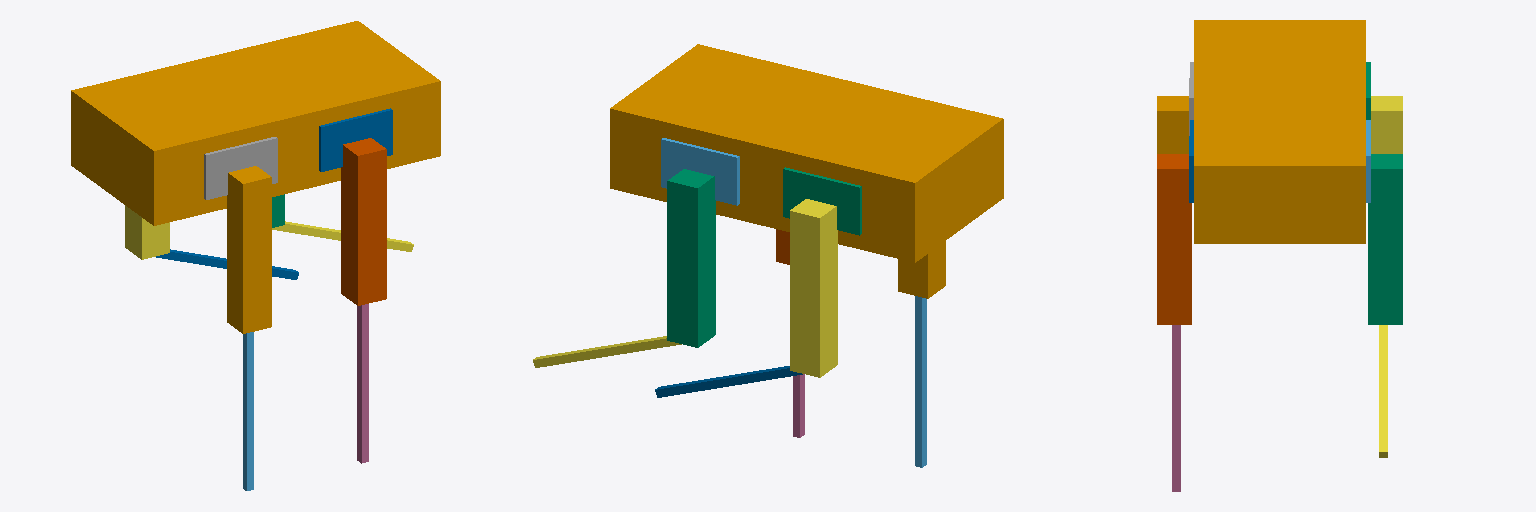
URDF robot description (robot):
<?xml version="1.0"?>
<robot xmlns:xacro="http://www.ros.org/wiki/xacro" name="robot">
  <!-- <link name="world"/> -->
  <!-- <joint name="fixed" type="fixed">
    <parent link="world"/>
    <child link="base_link"/>
  </joint> -->
  <link name="base_link">
    <visual>
      <geometry>
        <box size="0.254 0.127 0.0635"/>
      </geometry>
    </visual>
    <collision>
      <geometry>
        <box size="0.254 0.127 0.0635"/>
      </geometry>
    </collision>
    <inertial>
      <origin xyz="0.000 0.000 0.000" rpy ="0.000 0.000 0.000"/>
      <mass value="2.000"/>
      <inertia
        ixx="0.03562" ixy="0.00000" ixz="0.00000"
        iyy="0.04262" iyz="0.00000"
        izz="0.04508"/>
    </inertial>
  </link>

  <!-- FL -->
  <joint name="hip_fl" type="revolute">
    <limit upper="0.4" effort="100" velocity="10" lower="-0.2"/>
    <origin xyz ="0.0508 0.0508 0" rpy="0 0 0"/>
    <parent link="base_link"/>
    <child link = "hipbone_fl"/>
  </joint>

  <link name="hipbone_fl">
    <visual>
      <origin xyz=" 0.0 0.0 0" rpy = "0 0 0"/>
      <geometry>
        <box size = "0.0635 0.03175 0.0381"/>
      </geometry>
    </visual>
    <collision>
      <origin xyz=" 0.0 0.0 0" rpy = "0 0 0"/>
      <geometry>
        <box size = "0.0635 0.03175 0.0381"/>
      </geometry>
    </collision>
    <inertial>
      <origin xyz="0.000 0.000 0.000" rpy ="0.000 0.000 0.000"/>
      <mass value="0.233"/>
      <inertia
        ixx="0.00216" ixy="-0.00001" ixz="0.00001"
        iyy="0.00216" iyz="0.00001"
        izz="0.00211"/>
    </inertial>
  </link>

  <joint name="shoulder_fl" type="revolute">
    <limit upper="0.5" effort="100" velocity="10" lower="-0.1"/>
    <origin xyz="0 0 0" rpy = "0 0 0"/>
    <axis xyz="0 1 0"/>
    <parent link="hipbone_fl"/>
    <child link="femur_fl"/>
  </joint>

  <link name="femur_fl">
    <visual>
      <origin xyz="0.0 0.027 -0.0635" rpy="0 0 0"/>
      <geometry>
        <box size = "0.0254 0.0254 0.127"/>
      </geometry>
    </visual>
    <collision>
      <origin xyz="0.0 0.027 -0.0635" rpy="0 0 0"/>
      <geometry>
        <box size = "0.0254 0.0254 0.127"/>
      </geometry>
    </collision>
    <inertial>
      <origin xyz="0.000 0.000 0.000" rpy ="0.000 0.000 0.000"/>
      <mass value="0.084"/>
      <inertia
        ixx="0.00414" ixy="0.00000" ixz="0.00000"
        iyy="0.00410" iyz="0.00006"
        izz="0.00386"/>
    </inertial>
  </link>

  <joint name="knee_fl" type="revolute">
    <limit upper="-0.4" effort="100" velocity="10" lower="-2"/>
    <origin xyz="0 0 -0.127" rpy = "0 0 1.57"/>
    <parent link="femur_fl"/>
    <child link="tibia_fl"/>
  </joint>

  <link name="tibia_fl">
    <visual>
      <origin xyz="0.0254 0.0 -0.06985" rpy="0 0 0"/>
      <geometry>
        <box size = "0.00635 0.00635 0.1397"/>
      </geometry>
    </visual>
    <collision>
      <origin xyz="0.0254 0.0 -0.06985" rpy="0 0 0"/>
      <geometry>
        <box size = "0.00635 0.00635 0.1397"/>
      </geometry>
    </collision>
    <inertial>
      <origin xyz="0.000 0.000 0.000" rpy ="0.000 0.000 0.000"/>
      <mass value="0.034"/>
      <inertia
        ixx="0.00159" ixy="0.00000" ixz="-0.00001"
        iyy="0.00159" iyz="0.00000"
        izz="0.00147"/>
    </inertial>
  </link>

  <!-- FR -->
  <joint name="hip_fr" type="revolute">
    <limit upper="0.4" effort="100" velocity="10" lower="-0.2"/>
    <origin xyz ="0.0508 -0.0508 0" rpy="0 0 3.14"/>
    <parent link="base_link"/>
    <child link = "hipbone_fr"/>
  </joint>

  <link name="hipbone_fr">
    <visual>
      <origin xyz=" 0.0 0.0 0" rpy = "0 0 0"/>
      <geometry>
        <box size = "0.0635 0.03175 0.0381"/>
      </geometry>
    </visual>
    <collision>
      <origin xyz=" 0.0 0.0 0" rpy = "0 0 0"/>
      <geometry>
        <box size = "0.0635 0.03175 0.0381"/>
      </geometry>
    </collision>
    <inertial>
      <origin xyz="0.000 0.000 0.000" rpy ="0.000 0.000 0.000"/>
      <mass value="0.233"/>
      <inertia
        ixx="0.00216" ixy="0.00001" ixz="0.00001"
        iyy="0.00216" iyz="-0.00001"
        izz="0.00211"/>
    </inertial>
  </link>

  <joint name="shoulder_fr" type="revolute">
    <limit upper="0.1" effort="100" velocity="10" lower="-0.5"/>
    <origin xyz="0 0 0" rpy = "0 0 0"/>
    <axis xyz="0 1 0"/>
    <parent link="hipbone_fr"/>
    <child link="femur_fr"/>
  </joint>

  <link name="femur_fr">
    <visual>
      <origin xyz="0.0 0.027 -0.0635" rpy="0 0 0"/>
      <geometry>
        <box size = "0.0254 0.0254 0.127"/>
      </geometry>
    </visual>
    <collision>
      <origin xyz="0.0 0.027 -0.0635" rpy="0 0 0"/>
      <geometry>
        <box size = "0.0254 0.0254 0.127"/>
      </geometry>
    </collision>
    <inertial>
      <origin xyz="0.000 0.000 0.000" rpy ="0.000 0.000 0.000"/>
      <mass value="0.084"/>
      <inertia
        ixx="0.00414" ixy="0.00000" ixz="0.00000"
        iyy="0.00410" iyz="-0.00006"
        izz="0.00386"/>
    </inertial>
  </link>

  <joint name="knee_fr" type="revolute">
    <limit upper="2" effort="100" velocity="10" lower="-0.5"/>
    <origin xyz="0 0 -0.127" rpy = "0 0 1.57"/>
    <parent link="femur_fr"/>
    <child link="tibia_fr"/>
  </joint>

  <link name="tibia_fr">
    <visual>
      <origin xyz="0.0254 0.0 -0.06985" rpy="0 0 0"/>
      <geometry>
        <box size = "0.00635 0.00635 0.1397"/>
      </geometry>
    </visual>
    <collision>
      <origin xyz="0.0254 0.0 -0.06985" rpy="0 0 0"/>
      <geometry>
        <box size = "0.00635 0.00635 0.1397"/>
      </geometry>
    </collision>
    <inertial>
      <origin xyz="0.000 0.000 0.000" rpy ="0.000 0.000 0.000"/>
      <mass value="0.034"/>
      <inertia
        ixx="0.00159" ixy="0.00000" ixz="-0.00001"
        iyy="0.00159" iyz="0.00000"
        izz="0.00147"/>
    </inertial>
  </link>

  <!-- BR -->
  <joint name="hip_br" type="revolute">
    <limit upper="0.4" effort="100" velocity="10" lower="-0.2"/>
    <origin xyz ="-0.0508 -0.0508 0" rpy="0 0 3.14"/>
    <parent link="base_link"/>
    <child link = "hipbone_br"/>
  </joint>

  <link name="hipbone_br">
    <visual>
      <origin xyz=" 0.0 0.0 0" rpy = "0 0 0"/>
      <geometry>
        <box size = "0.0635 0.03175 0.0381"/>
      </geometry>
    </visual>
    <collision>
      <origin xyz=" 0.0 0.0 0" rpy = "0 0 0"/>
      <geometry>
        <box size = "0.0635 0.03175 0.0381"/>
      </geometry>
    </collision>
    <inertial>
      <origin xyz="0.000 0.000 0.000" rpy ="0.000 0.000 0.000"/>
      <mass value="0.233"/>
      <inertia
        ixx="0.00216" ixy="-0.00001" ixz="-0.00001"
        iyy="0.00216" iyz="-0.00001"
        izz="0.00211"/>
    </inertial>
  </link>

  <joint name="shoulder_br" type="revolute">
    <limit upper="0.1" effort="100" velocity="10" lower="-0.5"/>
    <origin xyz="0 0 0" rpy = "0 0 0"/>
    <axis xyz="0 1 0"/>
    <parent link="hipbone_br"/>
    <child link="femur_br"/>
  </joint>

  <link name="femur_br">
    <visual>
      <origin xyz="0.0 0.027 -0.0635" rpy="0 0 0"/>
      <geometry>
        <box size = "0.0254 0.0254 0.127"/>
      </geometry>
    </visual>
    <collision>
      <origin xyz="0.0 0.027 -0.0635" rpy="0 0 0"/>
      <geometry>
        <box size = "0.0254 0.0254 0.127"/>
      </geometry>
    </collision>
    <inertial>
      <origin xyz="0.000 0.000 0.000" rpy ="0.000 0.000 0.000"/>
      <mass value="0.084"/>
      <inertia
        ixx="0.00414" ixy="0.00000" ixz="0.00000"
        iyy="0.00410" iyz="-0.00006"
        izz="0.00386"/>
    </inertial>
  </link>

  <joint name="knee_br" type="revolute">
    <limit upper="2" effort="100" velocity="10" lower="-0.5"/>
    <origin xyz="0 0 -0.127" rpy = "0 0 1.57"/>
    <parent link="femur_br"/>
    <child link="tibia_br"/>
  </joint>

  <link name="tibia_br">
    <visual>
      <origin xyz="0.0254 0.0 -0.06985" rpy="0 0 0"/>
      <geometry>
        <box size = "0.00635 0.00635 0.1397"/>
      </geometry>
    </visual>
    <collision>
      <origin xyz="0.0254 0.0 -0.06985" rpy="0 0 0"/>
      <geometry>
        <box size = "0.00635 0.00635 0.1397"/>
      </geometry>
    </collision>
    <inertial>
      <origin xyz="0.000 0.000 0.000" rpy ="0.000 0.000 0.000"/>
      <mass value="0.034"/>
      <inertia
        ixx="0.00159" ixy="0.00000" ixz="-0.00001"
        iyy="0.00159" iyz="0.00000"
        izz="0.00147"/>
    </inertial>
  </link>

  <!-- BL -->
  <joint name="hip_bl" type="revolute">
    <limit upper="0.4" effort="100" velocity="10" lower="-0.2"/>
    <origin xyz ="-0.0508 0.0508 0" rpy="0 0 0"/>
    <parent link="base_link"/>
    <child link = "hipbone_bl"/>
  </joint>

  <link name="hipbone_bl">
    <visual>
      <origin xyz=" 0.0 0.0 0" rpy = "0 0 0"/>
      <geometry>
        <box size = "0.0635 0.03175 0.0381"/>
      </geometry>
    </visual>
    <collision>
      <origin xyz=" 0.0 0.0 0" rpy = "0 0 0"/>
      <geometry>
        <box size = "0.0635 0.03175 0.0381"/>
      </geometry>
    </collision>
    <inertial>
      <origin xyz="0.000 0.000 0.000" rpy ="0.000 0.000 0.000"/>
      <mass value="0.233"/>
      <inertia
        ixx="0.00216" ixy="0.00001" ixz="-0.00001"
        iyy="0.00216" iyz="0.00001"
        izz="0.00211"/>
    </inertial>
  </link>

  <joint name="shoulder_bl" type="revolute">
    <limit upper="0.5" effort="100" velocity="10" lower="-0.1"/>
    <origin xyz="0 0 0" rpy = "0 0 0"/>
    <axis xyz="0 1 0"/>
    <parent link="hipbone_bl"/>
    <child link="femur_bl"/>
  </joint>

  <link name="femur_bl">
    <visual>
      <origin xyz="0.0 0.027 -0.0635" rpy="0 0 0"/>
      <geometry>
        <box size = "0.0254 0.0254 0.127"/>
      </geometry>
    </visual>
    <collision>
      <origin xyz="0.0 0.027 -0.0635" rpy="0 0 0"/>
      <geometry>
        <box size = "0.0254 0.0254 0.127"/>
      </geometry>
    </collision>
    <inertial>
      <origin xyz="0.000 0.000 0.000" rpy ="0.000 0.000 0.000"/>
      <mass value="0.084"/>
      <inertia
        ixx="0.00414" ixy="0.00000" ixz="0.00000"
        iyy="0.00410" iyz="0.00006"
        izz="0.00386"/>
    </inertial>
  </link>

  <joint name="knee_bl" type="revolute">
    <limit upper="-0.4" effort="100" velocity="10" lower="-2"/>
    <origin xyz="0 0 -0.127" rpy = "0 0 1.57"/>
    <parent link="femur_bl"/>
    <child link="tibia_bl"/>
  </joint>

  <link name="tibia_bl">
    <visual>
      <origin xyz="0.0254 0.0 -0.06985" rpy="0 0 0"/>
      <geometry>
        <box size = "0.00635 0.00635 0.1397"/>
      </geometry>
    </visual>
    <collision>
      <origin xyz="0.0254 0.0 -0.06985" rpy="0 0 0"/>
      <geometry>
        <box size = "0.00635 0.00635 0.1397"/>
      </geometry>
    </collision>
    <inertial>
      <origin xyz="0.000 0.000 0.000" rpy ="0.000 0.000 0.000"/>
      <mass value="0.034"/>
      <inertia
        ixx="0.00159" ixy="0.00000" ixz="-0.00001"
        iyy="0.00159" iyz="0.00000"
        izz="0.00147"/>
    </inertial>
  </link>
</robot>

--- What the picture shows (computed from the rendered views, not written in the file) ---
Views: 3 orthographic renders of the robot side by side, from view 1: azimuth 30°, elevation 25°; view 2: azimuth 150°, elevation 25°; view 3: azimuth 270°, elevation 25°.
Robot: robot — 13 links, 12 joints (12 revolute); root link base_link; default pose: all joints at 0 but 2 set to mid-range because 0 is outside their limits (knee_fl = -1.2, knee_bl = -1.2).
Links seen in each view (by area): view 1: base_link, femur_fr, femur_br, hipbone_fr, hipbone_br, tibia_fr, tibia_br, femur_bl, tibia_bl, tibia_fl; view 2: base_link, femur_fl, femur_bl, hipbone_bl, hipbone_fl, tibia_br, femur_br, tibia_bl, tibia_fl, tibia_fr; view 3: base_link, femur_fl, femur_fr, femur_br, femur_bl, tibia_fr, tibia_fl.
Boxes of the visible links, bbox=[...] form: base_link: bbox=[71, 21, 440, 225]; femur_fr: bbox=[341, 138, 386, 305]; femur_br: bbox=[227, 166, 271, 333]; hipbone_fr: bbox=[319, 108, 392, 171]; hipbone_br: bbox=[204, 137, 277, 199]; tibia_fr: bbox=[357, 304, 368, 463]; tibia_br: bbox=[243, 332, 253, 490]; femur_bl: bbox=[125, 205, 169, 259]; tibia_bl: bbox=[156, 249, 298, 279]; tibia_fl: bbox=[272, 221, 413, 251]; base_link: bbox=[610, 44, 1003, 262]; femur_fl: bbox=[667, 169, 715, 347]; femur_bl: bbox=[790, 199, 837, 377]; hipbone_bl: bbox=[783, 167, 861, 235]; hipbone_fl: bbox=[661, 138, 739, 205]; tibia_br: bbox=[915, 296, 926, 467]; femur_br: bbox=[898, 241, 945, 298]; tibia_bl: bbox=[655, 366, 802, 397]; tibia_fl: bbox=[533, 336, 681, 367]; tibia_fr: bbox=[793, 374, 804, 437]; base_link: bbox=[1194, 20, 1365, 243]; femur_fl: bbox=[1368, 154, 1402, 324]; femur_fr: bbox=[1157, 154, 1191, 324]; femur_br: bbox=[1157, 96, 1188, 153]; femur_bl: bbox=[1371, 96, 1402, 153]; tibia_fr: bbox=[1172, 325, 1180, 491]; tibia_fl: bbox=[1379, 325, 1387, 457].
Bounding box of the posed robot: 0.3092 × 0.181 × 0.2984 m (x, y, z).
Geometry: primitives only (box / cylinder / sphere), no mesh files.
